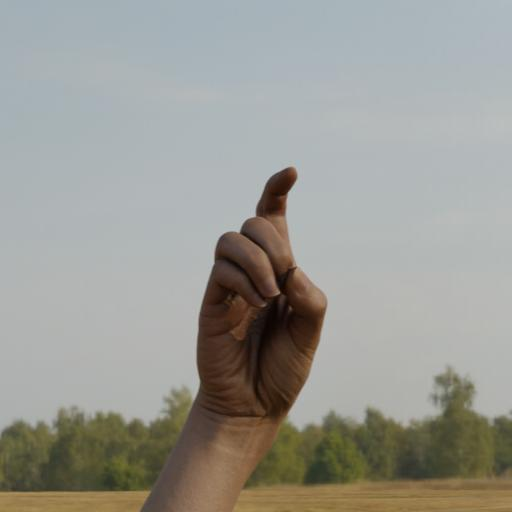X: (194, 162, 333, 412)
